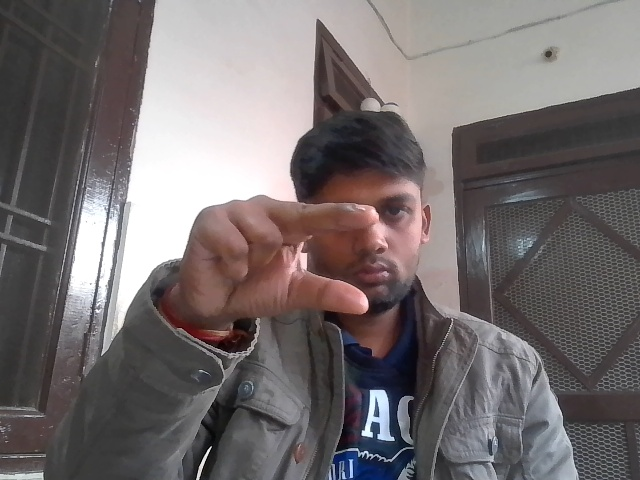No: (173, 190, 419, 347)
